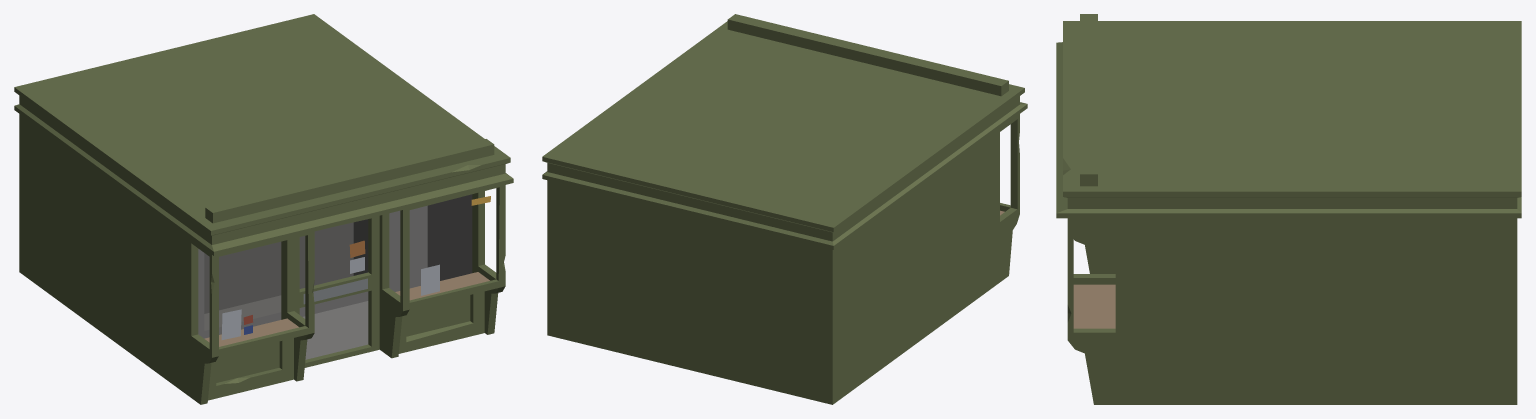
Rendered from shop_3.glb.
3 renders of one model, left to right at view 1: azimuth 30°, elevation 25°; view 2: azimuth 150°, elevation 25°; view 3: azimuth 270°, elevation 25°, orthographic. The views are drawn at different scales.
Visible parts, largest first — view 1: SM_Bld_Shop_04; view 2: SM_Bld_Shop_04; view 3: SM_Bld_Shop_04.
Boxes of the visible parts, x1,y1,x2,y2 form: SM_Bld_Shop_04: (14,14,513,404); SM_Bld_Shop_04: (542,14,1027,404); SM_Bld_Shop_04: (1056,14,1521,404).
Size of the model in its own units: 5.11 by 3.17 by 5.89.
Materials: 1 (1 with a texture image).
